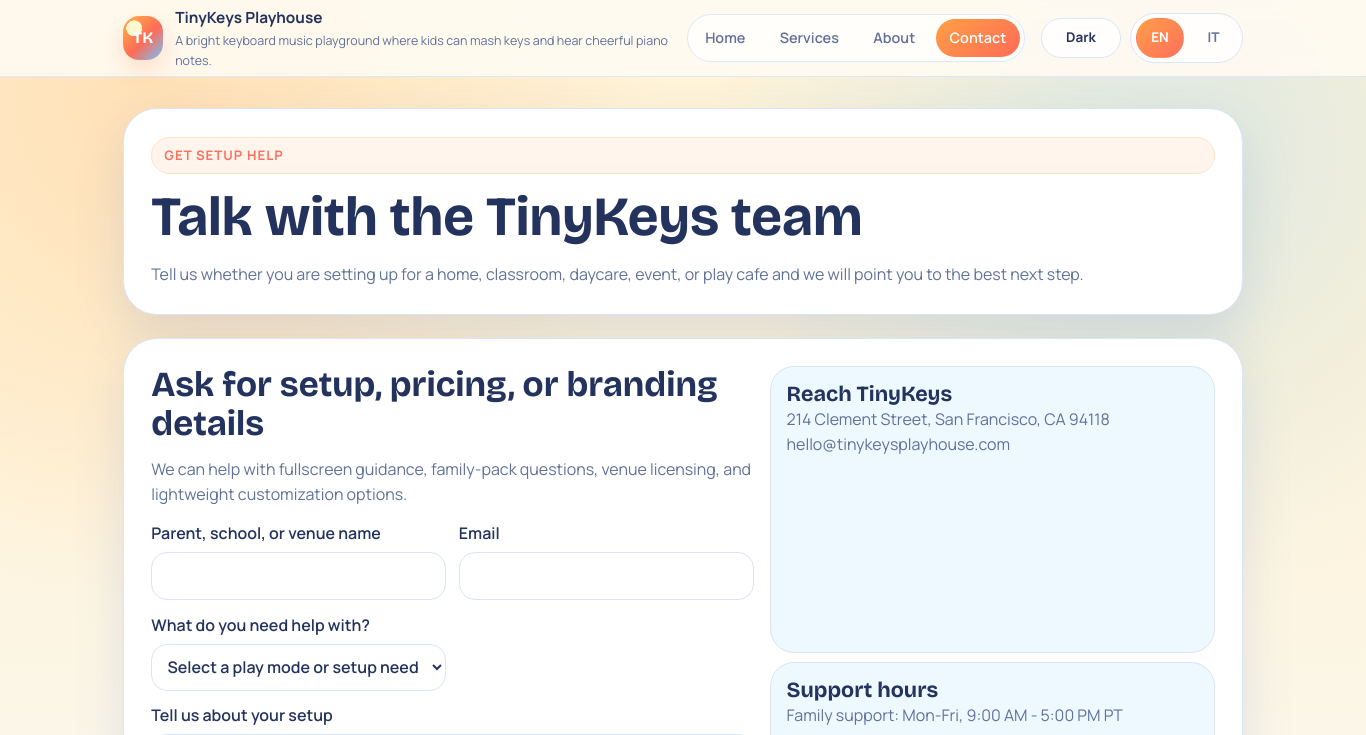
Test: site localization › localizes contact form guidance and validation errors
Click the button with aria-label "Switch website to Italian" at (1214, 38), box [1190,18,1238,58]
(page scrolled)
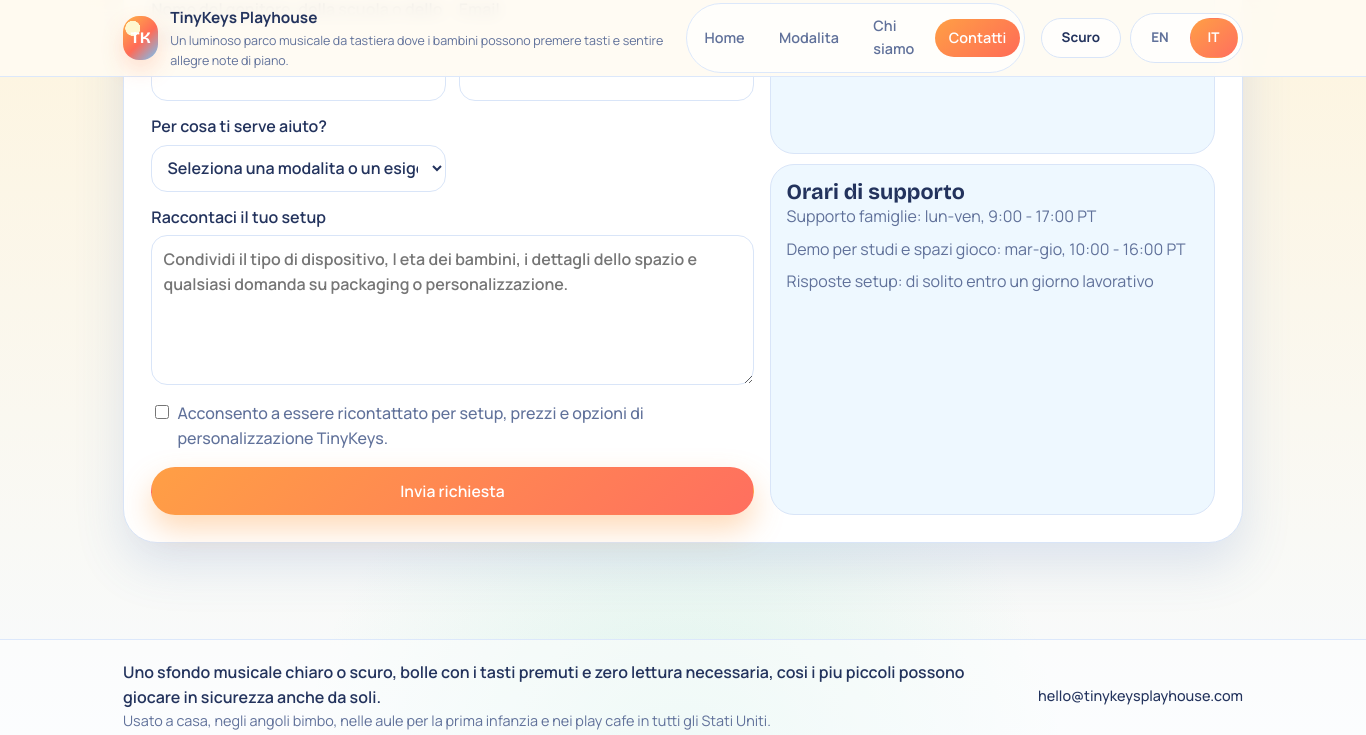
Click the button "Invia richiesta" at (452, 491), box [151,467,754,515]
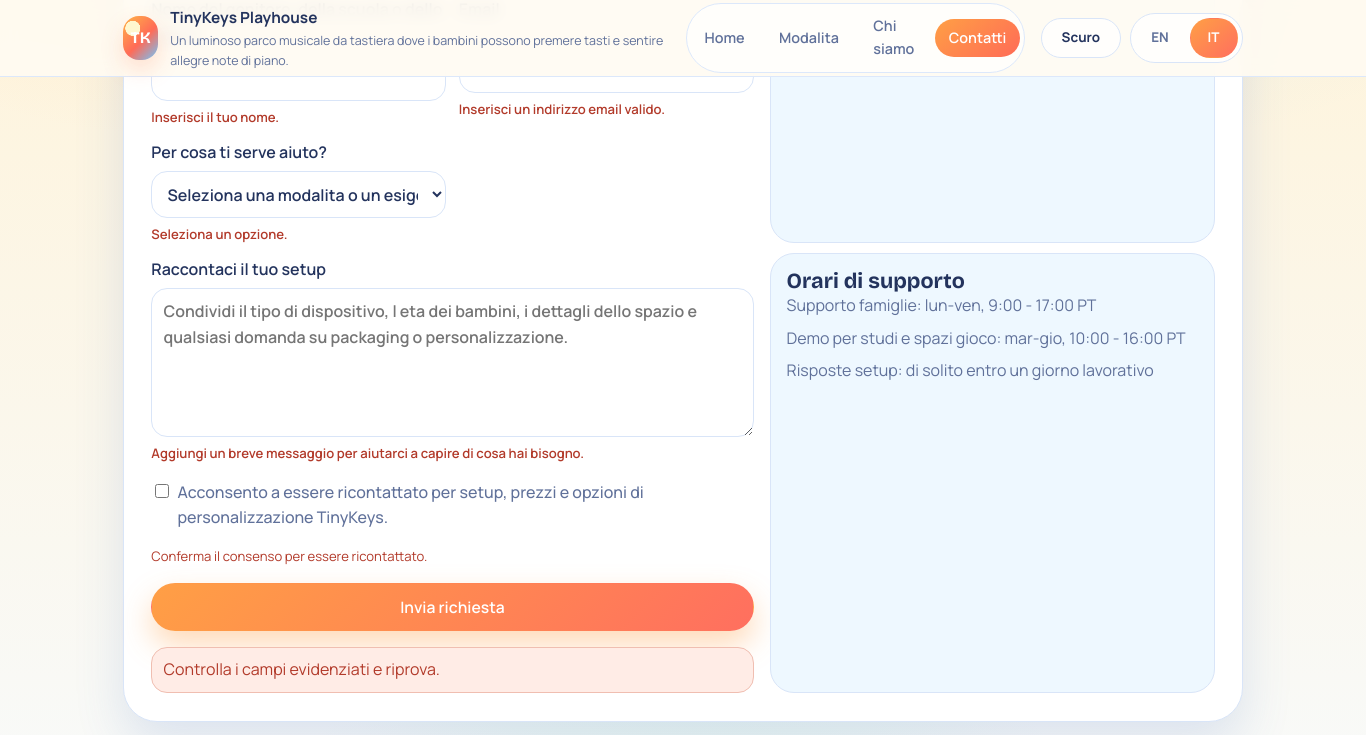
Expected: the text "Controlla i campi evidenziati e riprova." is shown, [151,647,754,693]
Expected: the text "Inserisci il tuo nome." is shown, [151,108,279,126]
Expected: the text "Inserisci un indirizzo email valido." is shown, [459,100,665,118]
